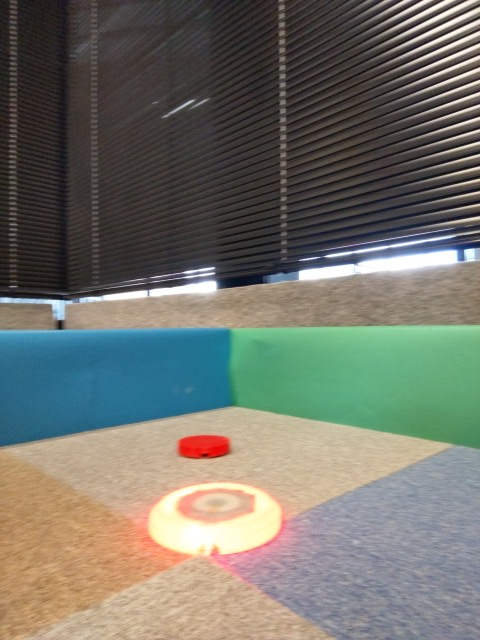r: (141, 478, 291, 558)
